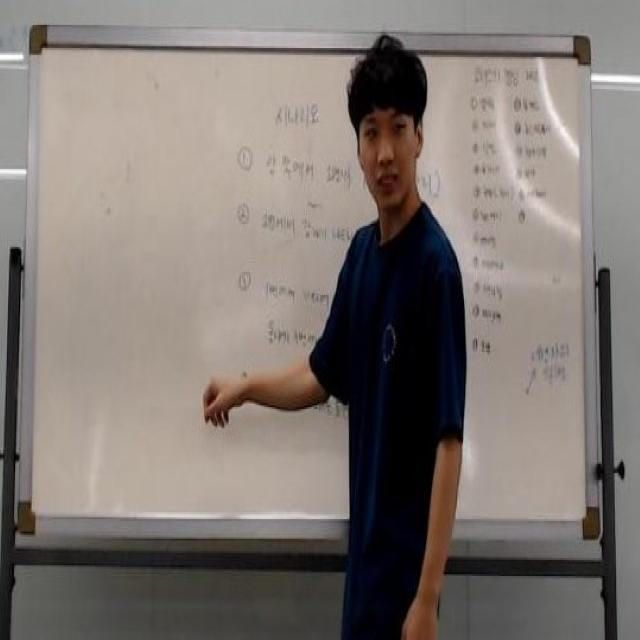Instructor: (320, 21, 454, 631)
White-board: (25, 32, 595, 537)
